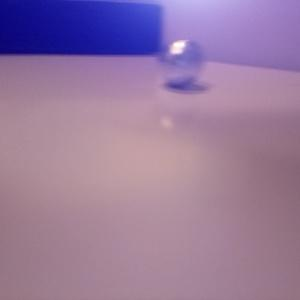alive_ball: (158, 39, 203, 86)
